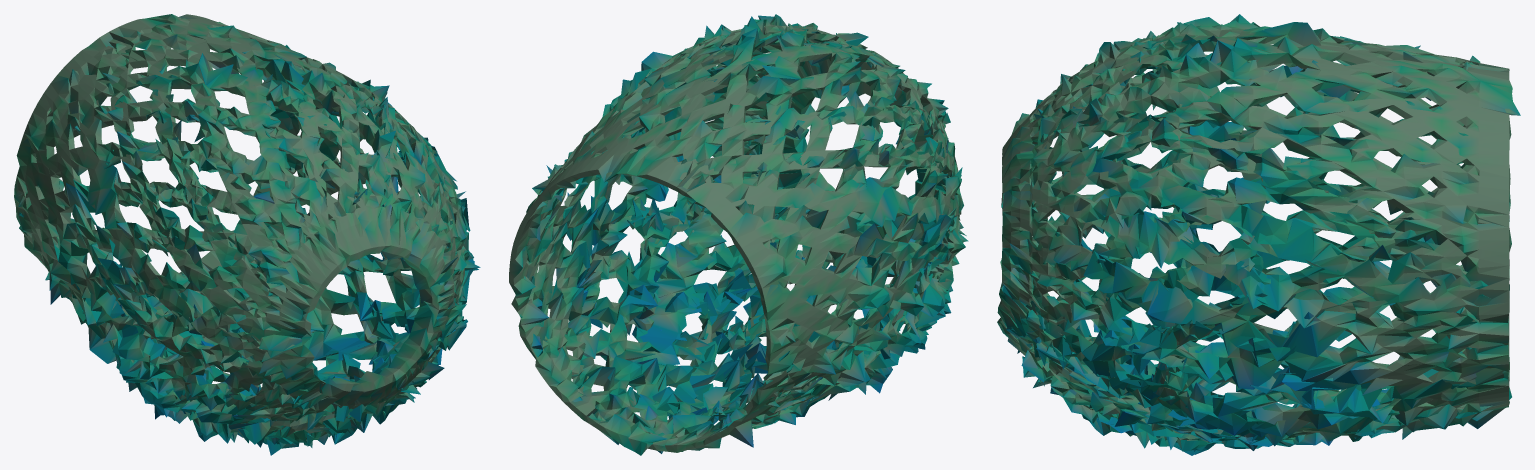
Rendered from lamp_shade_14_final100.obj.
The picture shows the model from 3 angles, left to right: view 1: azimuth 30°, elevation 25°; view 2: azimuth 150°, elevation 25°; view 3: azimuth 270°, elevation 25°; orthographic projection. The views are drawn at different scales.
Size of the model in its own units: 1.27 by 1.29 by 1.54.
